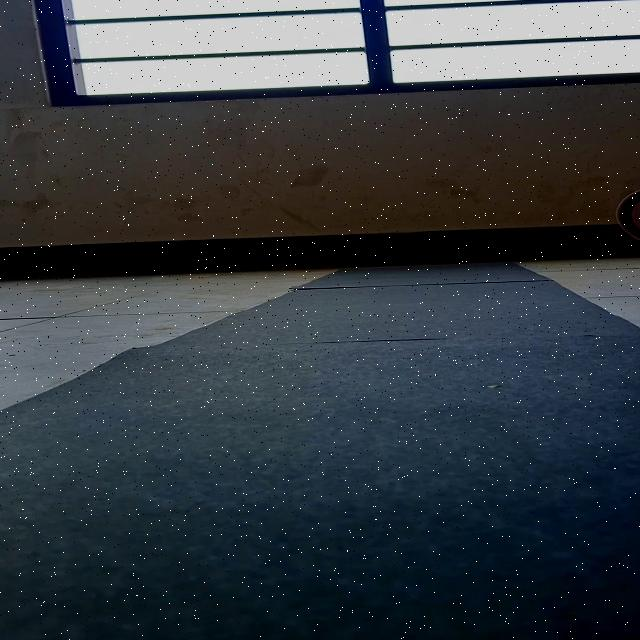Speed20: (612, 181, 640, 249)
